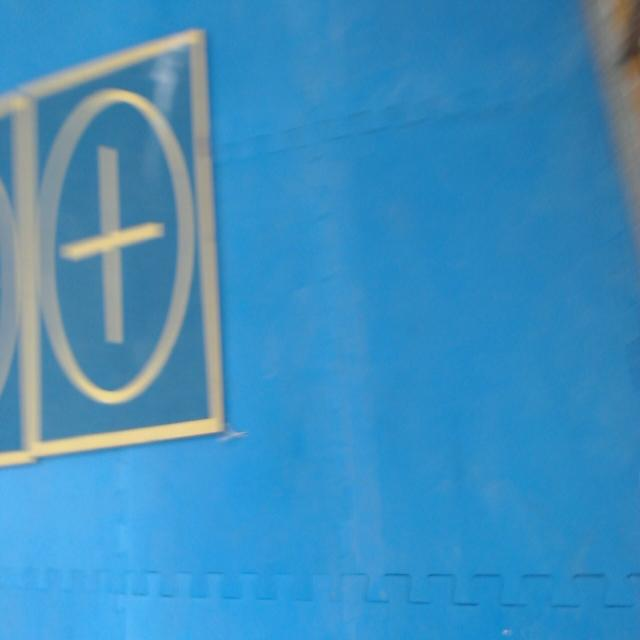base_pouso: (20, 30, 225, 457), (0, 88, 37, 469)
